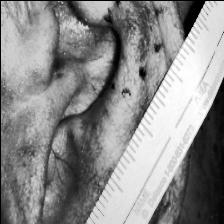Potentially Malignant Skin Tumors: (120, 86, 130, 100), (137, 65, 147, 79), (104, 10, 114, 20), (152, 42, 160, 53), (113, 0, 119, 5)
